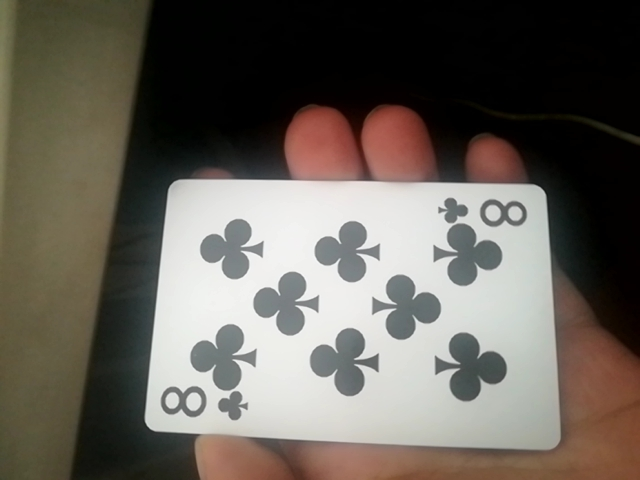mh 8: (136, 174, 564, 458)
